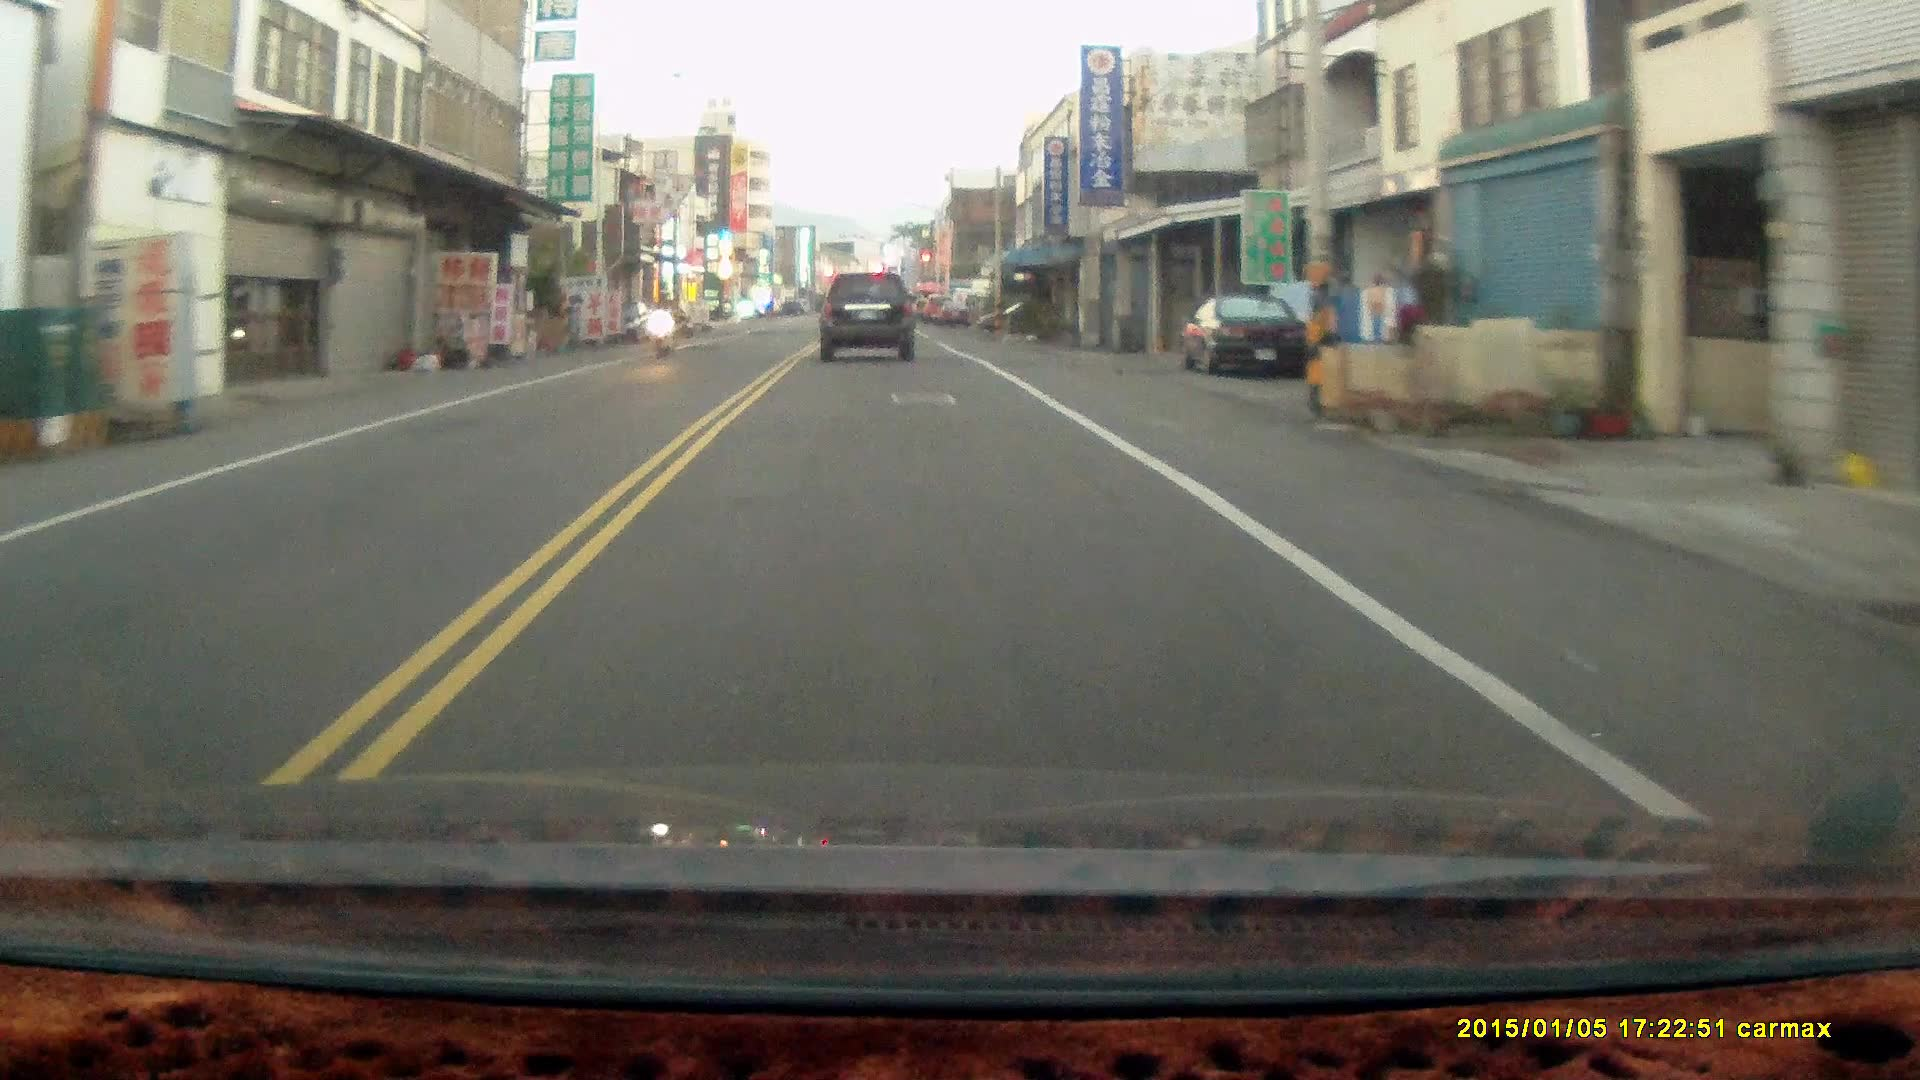rider: (651, 289, 678, 356)
vehicle: (1183, 297, 1313, 382), (821, 273, 919, 363)
